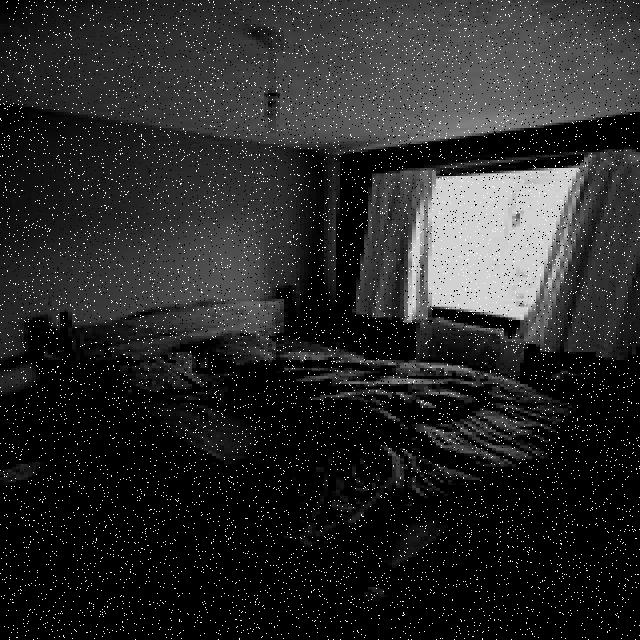bed: (89, 305, 545, 578)
